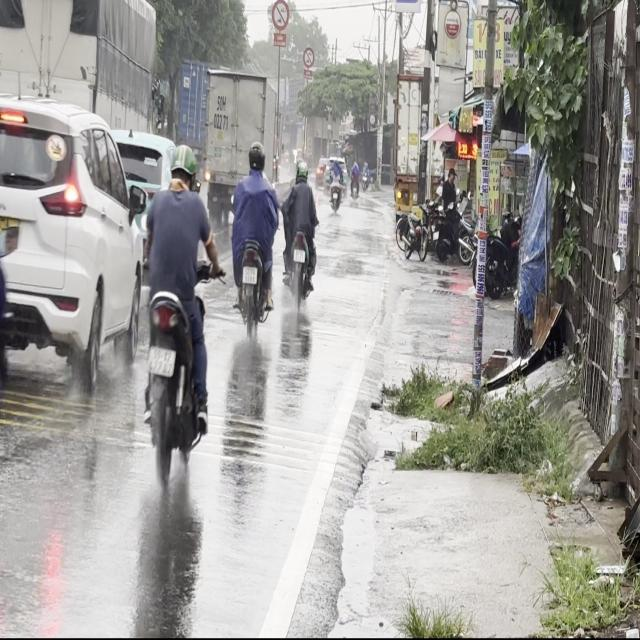helmet: (168, 142, 196, 188), (246, 140, 265, 172), (295, 159, 307, 181)
licenseplate: (139, 140, 217, 483), (228, 138, 278, 336), (280, 158, 318, 310)
nohelmet: (147, 346, 175, 375), (242, 266, 256, 282), (294, 249, 306, 262)
